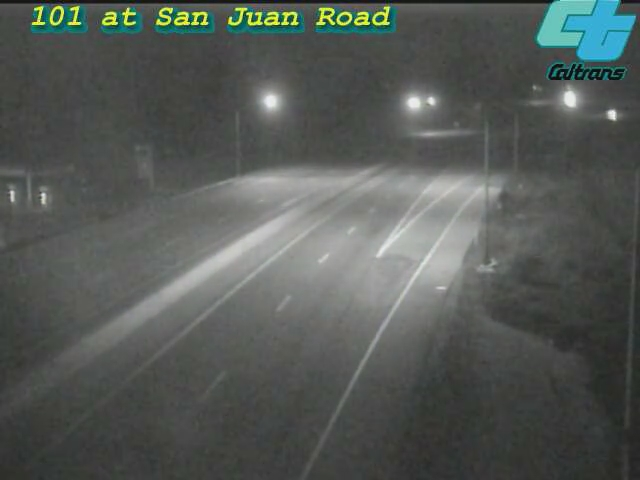vehicle: (587, 92, 637, 142)
